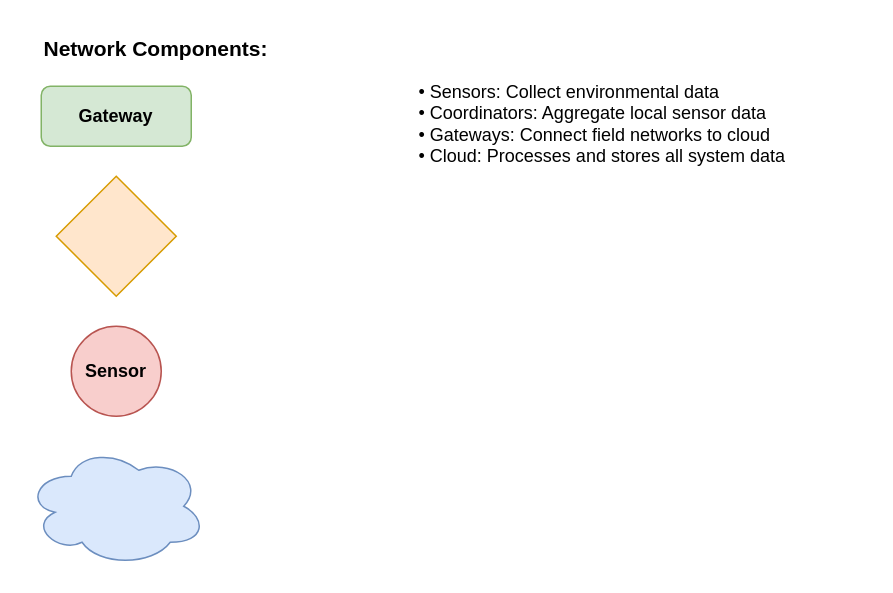
The diagram is 893 pixels wide and 593 high, and some of its shapes have lost their labels. The shapes that lost their labels are listed below. From the top down, each one's centre as x and y in pixels, then its label:
the point at 115,235: Coordinator
the point at 115,505: Cloud Platform
